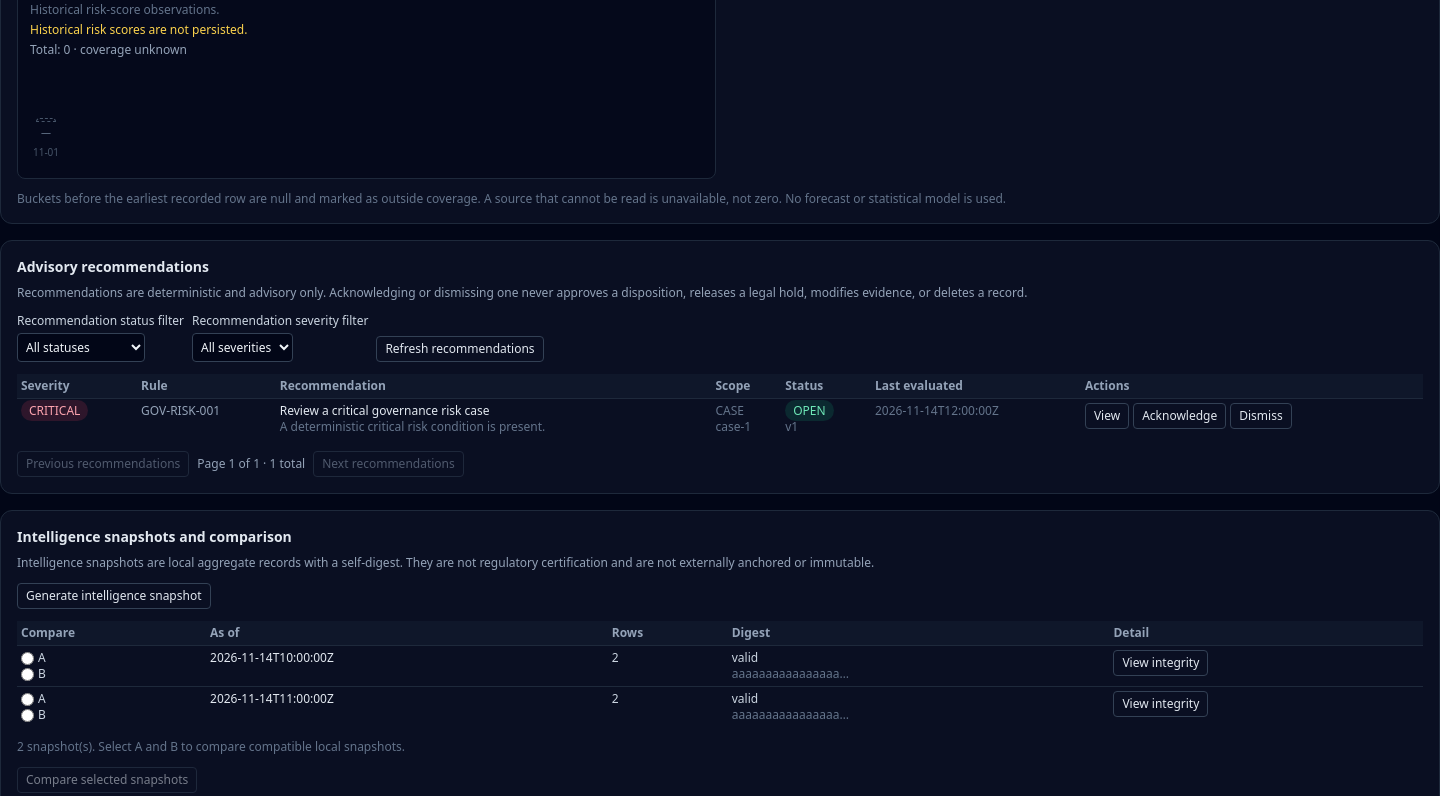
Test: IntelligenceWorkspace › generates a snapshot with an idempotency key and reason
(page scrolled)
Click the button "Generate intelligence snapshot" at point(114, 596), box [17,583,210,609]
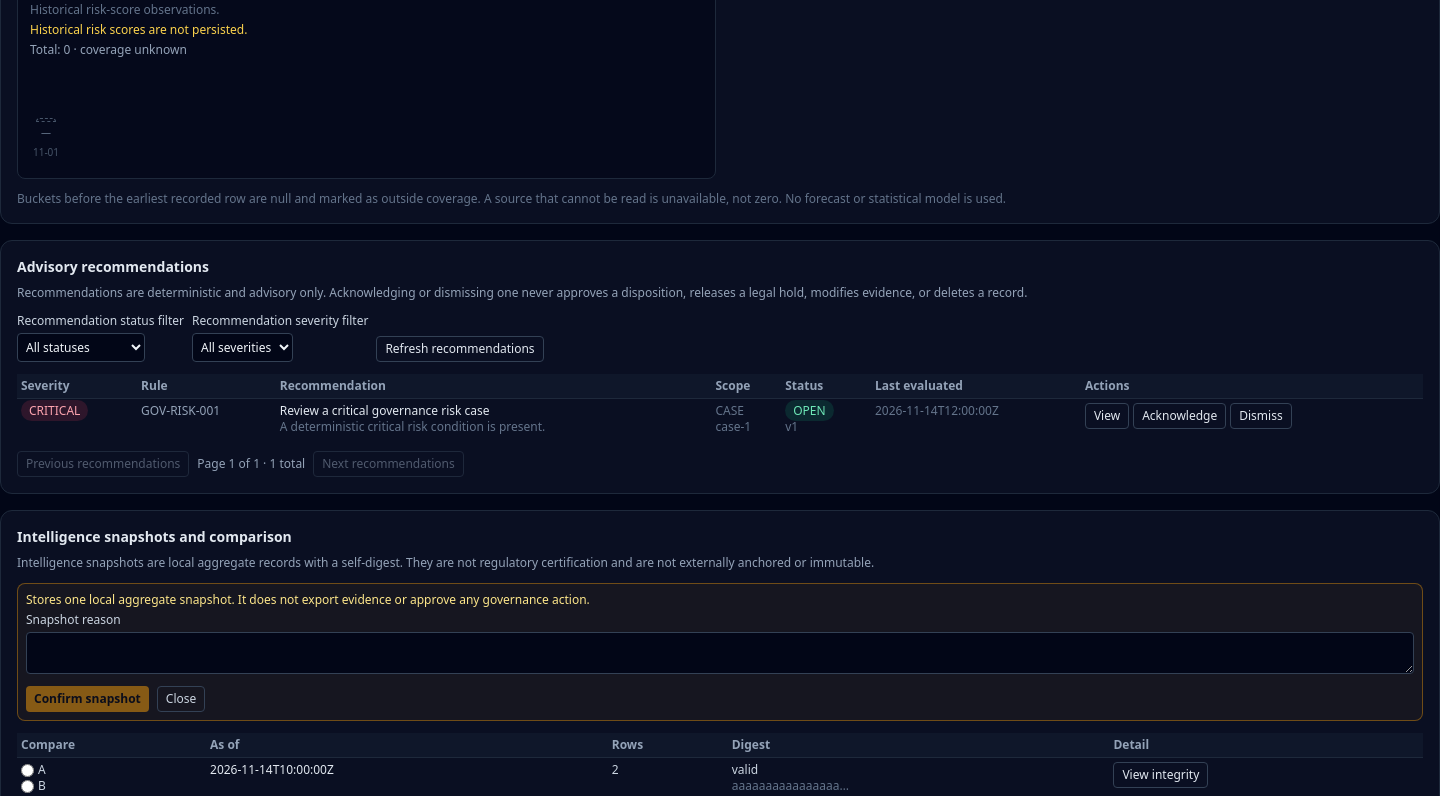
Type "Synthetic local snapshot." into the text box labelled "Snapshot reason" at point(720, 653), box [26,632,1414,674]
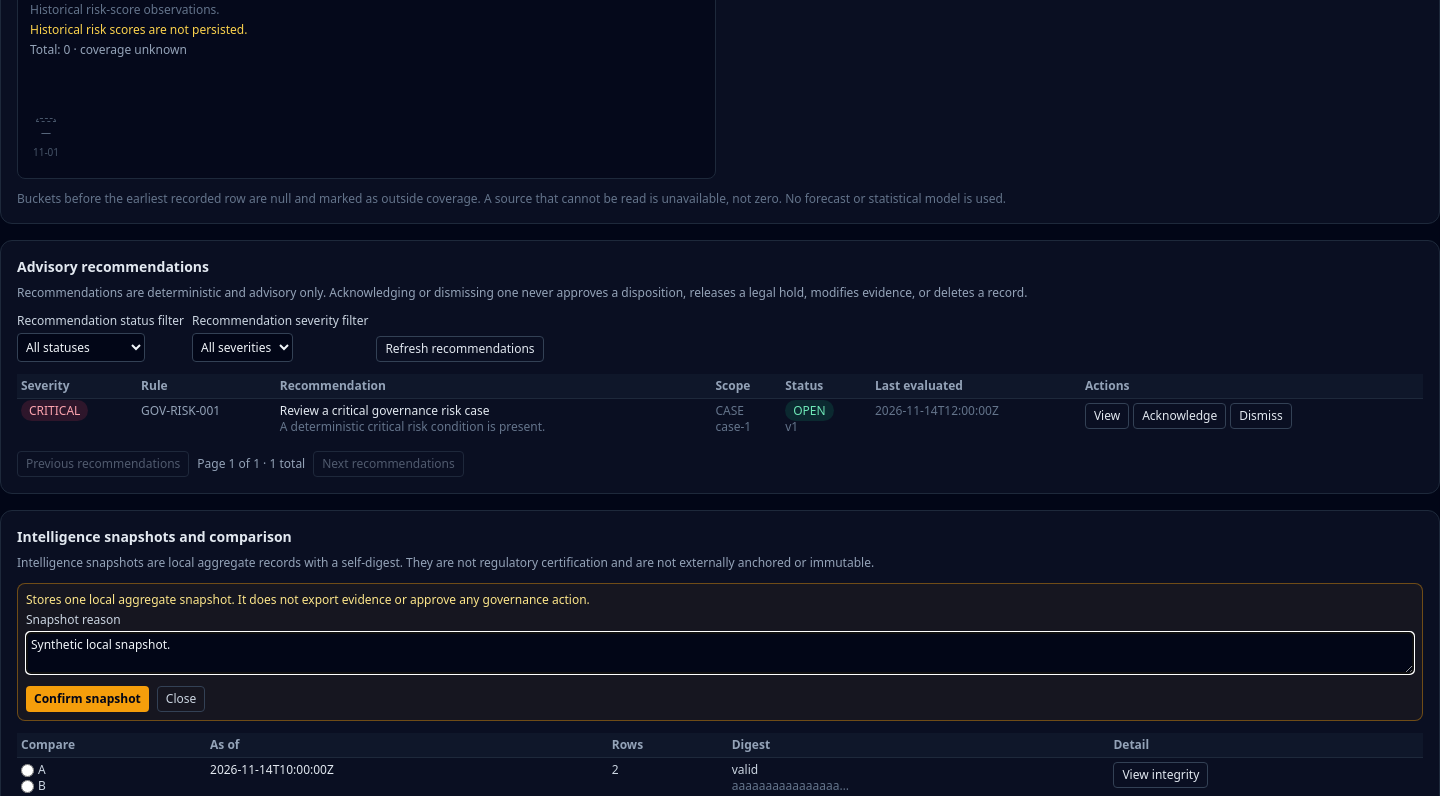
Click the button "Confirm snapshot" at point(87, 699), box [26,686,149,712]
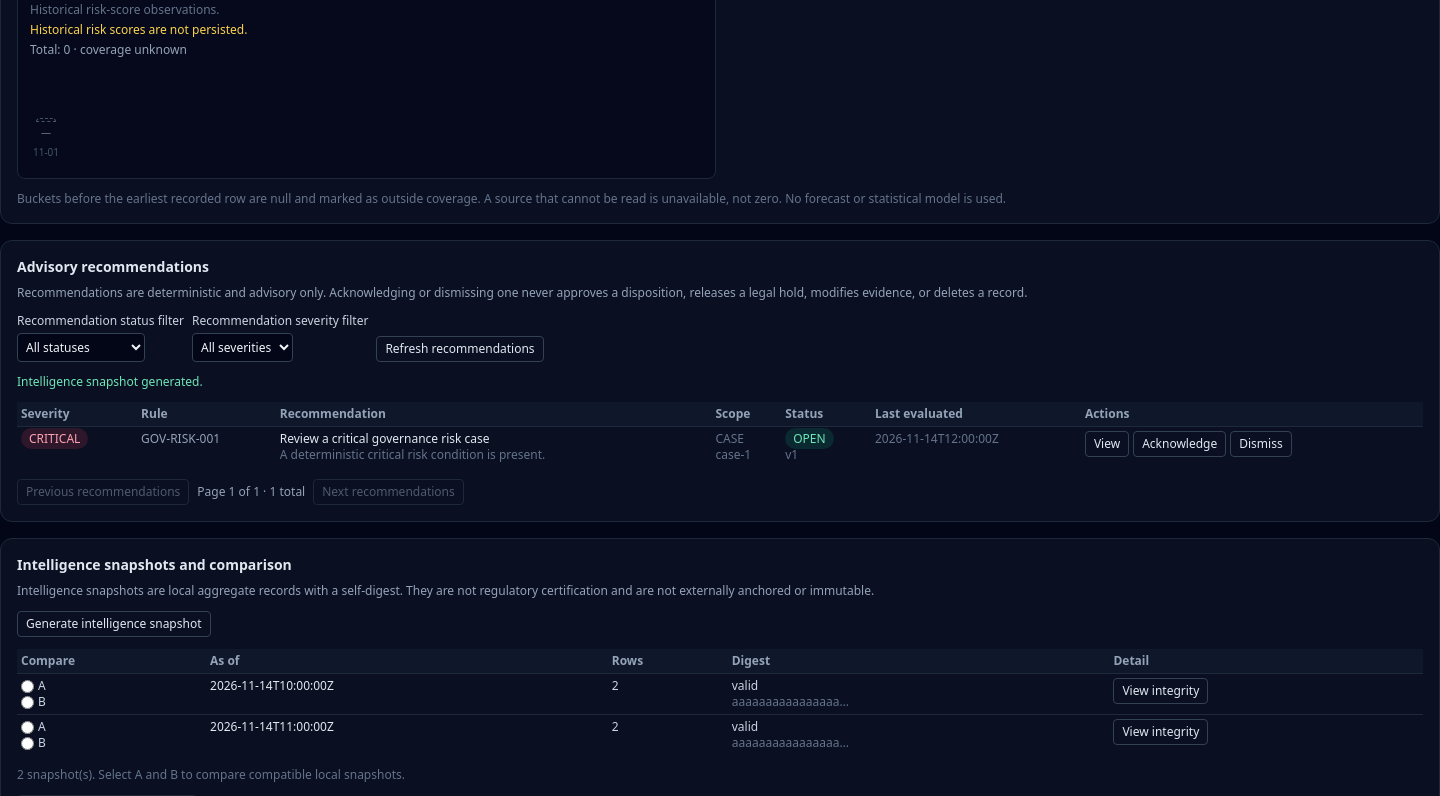
Check: the text "Intelligence snapshot generated." is shown, box [17,373,203,390]
